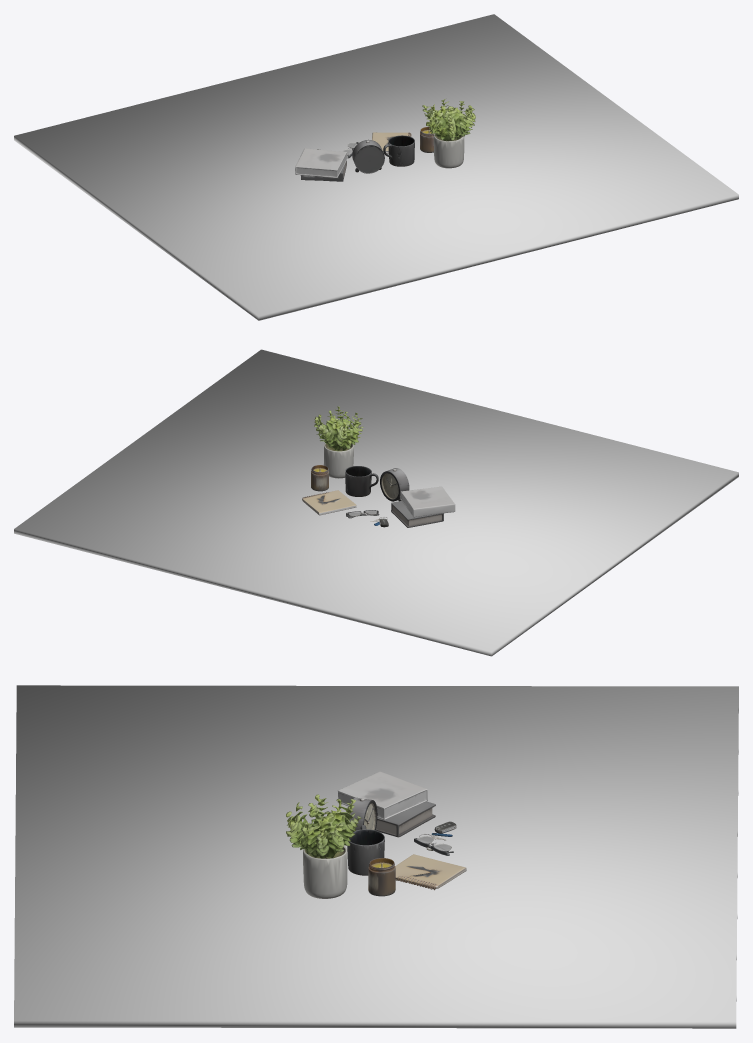
File: rest3d.glb
3 views of the same model, one above another, from view 1: azimuth 30°, elevation 25°; view 2: azimuth 150°, elevation 25°; view 3: azimuth 270°, elevation 25° (orthographic). The views are drawn at different scales.
Parts seen in each view (by area): view 1: ground, World; view 2: ground, World; view 3: ground, World.
Boxes of the visible parts, box(x1,y1,x2,y2) form: ground: box(14, 14, 738, 320); World: box(295, 99, 475, 181); ground: box(14, 349, 738, 656); World: box(302, 406, 455, 527); ground: box(14, 685, 738, 1028); World: box(286, 771, 466, 898).
Size of the model in its own units: 5.44 by 0.7229 by 4.84.
